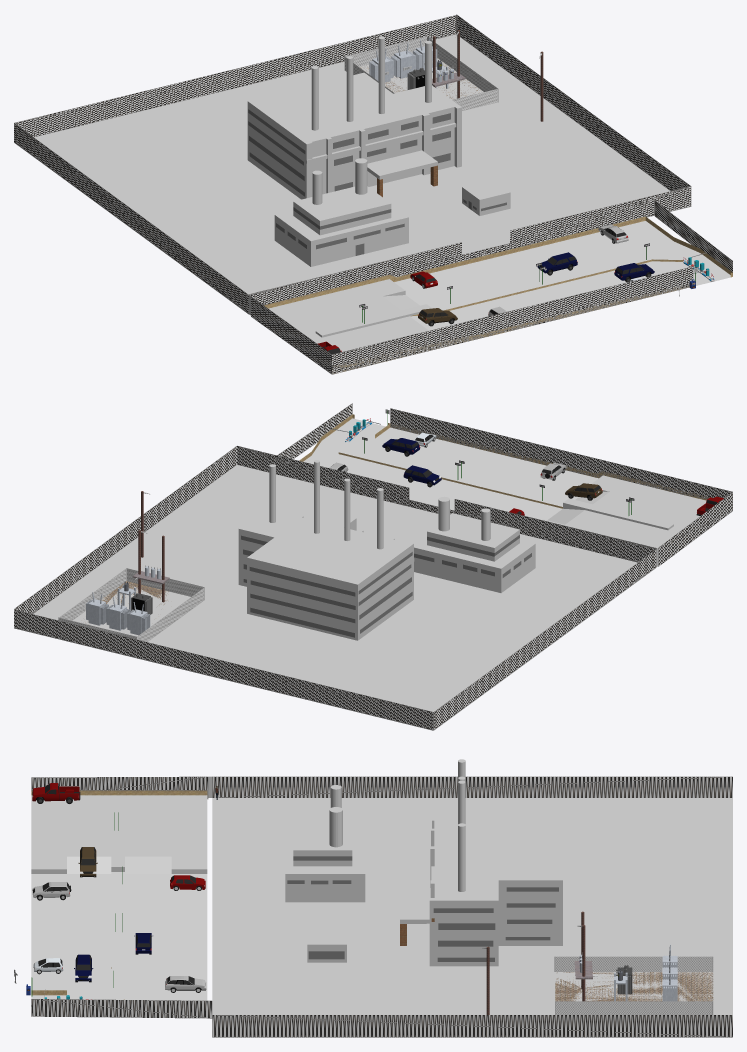
The model's file is dacbiet(test2).glb.
3 views of the same model, one above another, from view 1: azimuth 30°, elevation 25°; view 2: azimuth 150°, elevation 25°; view 3: azimuth 270°, elevation 25° (orthographic). The views are drawn at different scales.
Parts seen in each view (by area): view 1: _(Loose Entity), _C-ske5E (Loose Mesh), _G-Object.018 (Loose Mesh); view 2: _(Loose Entity), _C-ske5E (Loose Mesh), _G-Object.018 (Loose Mesh), G-Object.024, G-Object.022; view 3: _(Loose Entity), _C-ske5E (Loose Mesh), _G-Object.018 (Loose Mesh), _C-Truck_Half (Loose Mesh).
Part boxes in pixels (x1,y1,x2,y2): _(Loose Entity): (14,14,732,374); _C-ske5E (Loose Mesh): (264,216,732,373); _G-Object.018 (Loose Mesh): (344,30,497,110); _(Loose Entity): (14,403,732,730); _C-ske5E (Loose Mesh): (299,414,708,548); _G-Object.018 (Loose Mesh): (59,530,204,641); G-Object.024: (106,597,129,630); G-Object.022: (127,602,150,635); _(Loose Entity): (31,759,732,1037); _C-ske5E (Loose Mesh): (31,790,207,1000); _G-Object.018 (Loose Mesh): (555,911,713,1014); _C-Truck_Half (Loose Mesh): (32,785,80,801).
Bounding box in the file's own units: 65.48 × 19.16 × 83.22.
59 materials, 19 textured.
